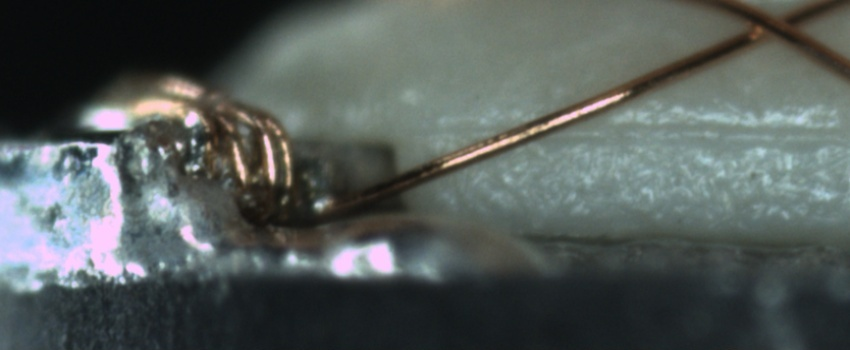CL: (728, 2, 816, 47)
DL: (430, 101, 850, 164)
TE: (91, 66, 299, 204)
